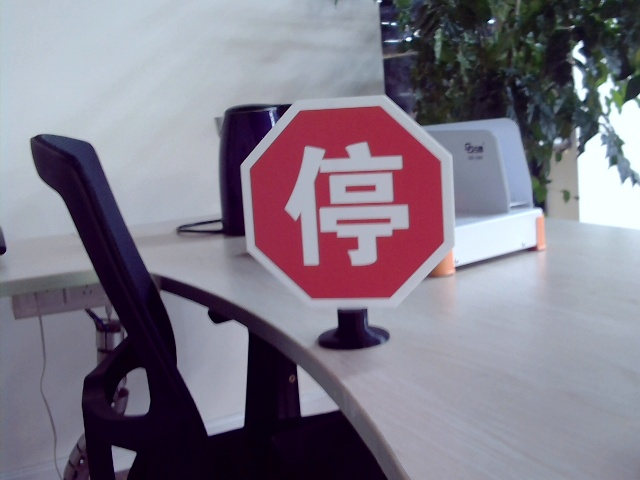stop: (281, 142, 411, 266)
